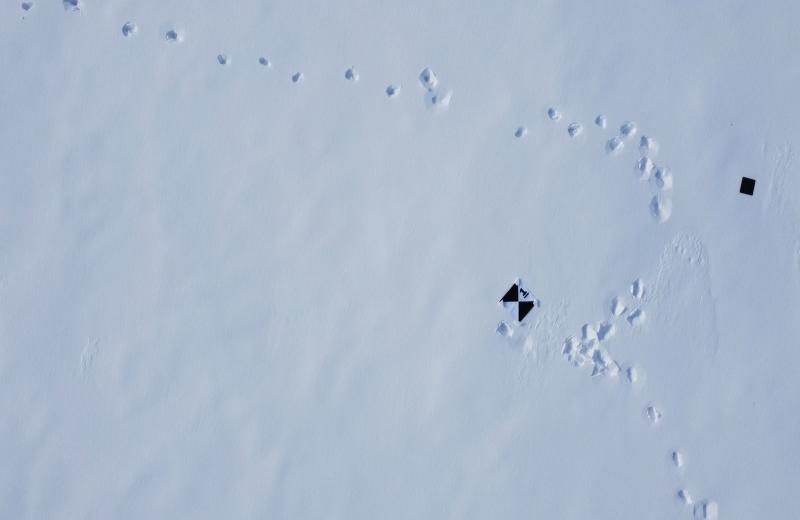Square: (738, 177, 756, 199)
